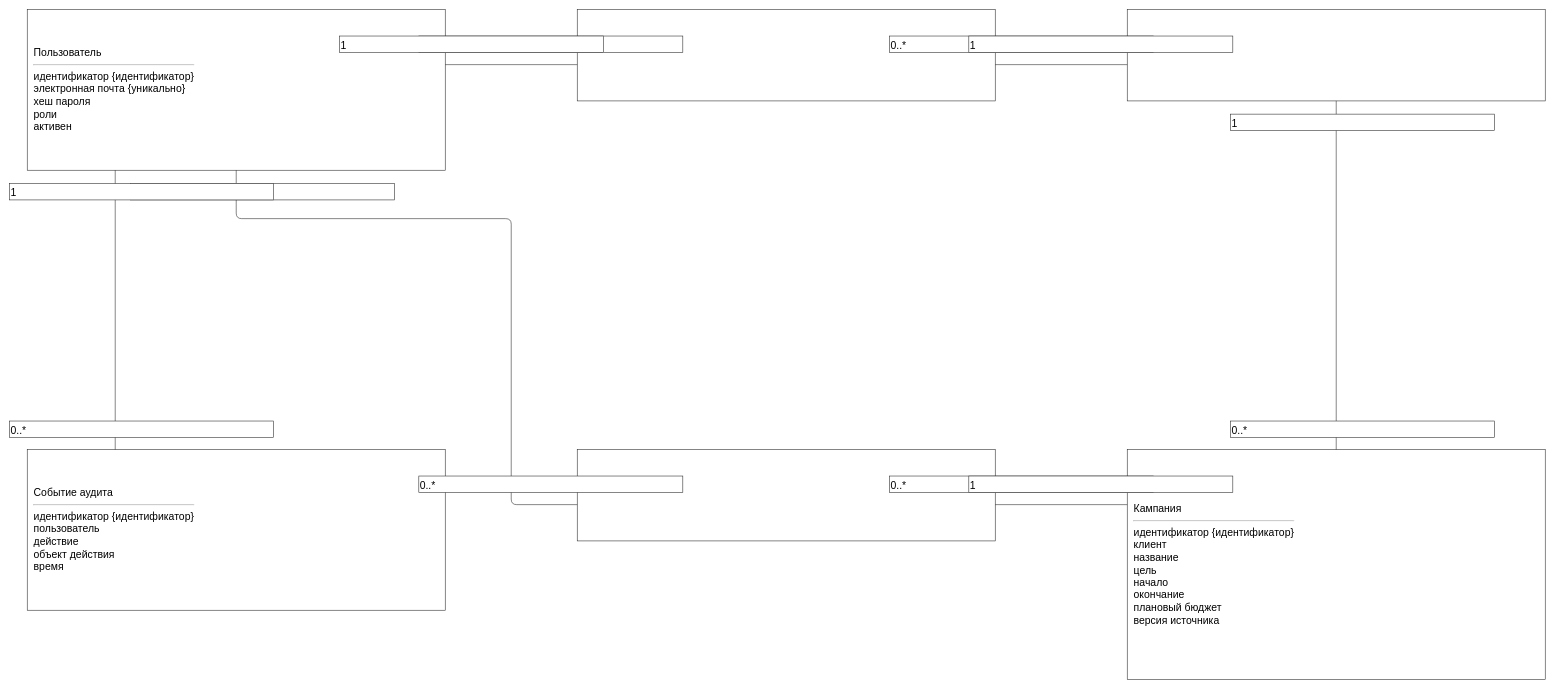
Image size: 1555x689. Some labels were removed from this diagram. The centre of each missing label's shape, as x and y in pixels:
"Доступ заказчика пользователь клиент" goes at point 786,55.
"Клиент идентификатор {идентификатор} наименование" goes at point 1336,55.
"Назначение сотрудника кампания сотрудник" goes at point 786,495.
